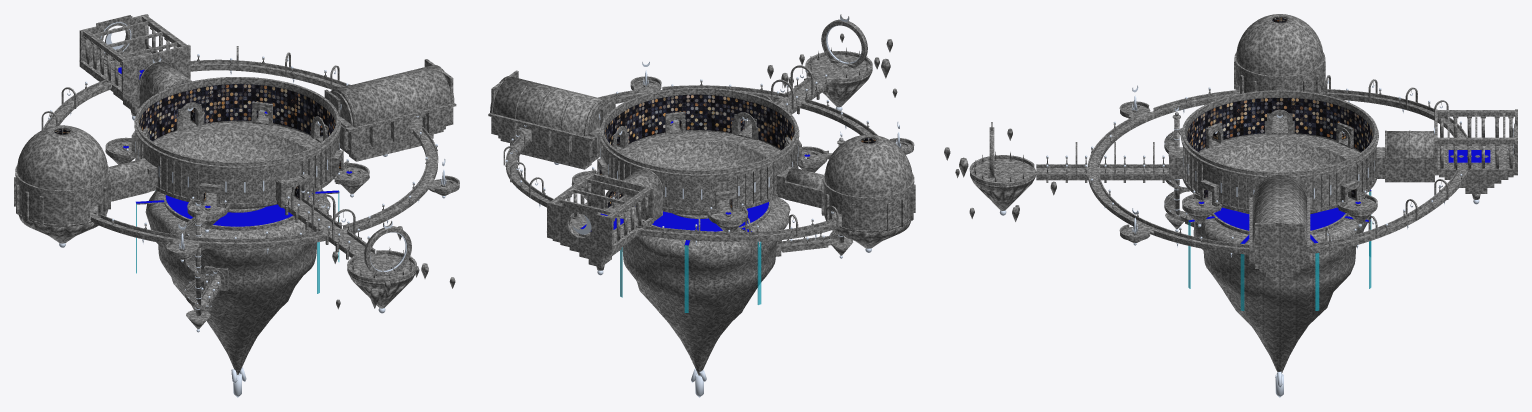
File: MOON TEMPLE Expansion.fbx
3 renders of one model, left to right at view 1: azimuth 30°, elevation 25°; view 2: azimuth 150°, elevation 25°; view 3: azimuth 270°, elevation 25°, orthographic. The views are drawn at different scales.
Parts seen in each view (by area): view 1: Grotto Island, Temple Shell, Wing Observatory, Wing Hall of Phases, Orbit Path, Wing Sanctum, Wing Moon Gate, Temple Walls, Temple Underbelly, Grotto Island Decor, Grotto Stair, Balcony SW (+4 smaller); view 2: Grotto Island, Temple Shell, Wing Observatory, Wing Hall of Phases, Wing Sanctum, Orbit Path, Wing Moon Gate, Temple Walls, Temple Underbelly, Grotto Island Decor, Balcony NW, Grotto Stair (+3 smaller); view 3: Grotto Island, Temple Shell, Orbit Path, Wing Sanctum, Wing Observatory, Wing Moon Gate, Temple Walls, Wing Hall of Phases, Temple Underbelly, Grotto Island Decor, Grotto Stair, Balcony NE (+3 smaller).
Boxes of the visible parts, x1,y1,x2,y2 form: Grotto Island: [136, 189, 339, 374]; Temple Shell: [134, 77, 340, 207]; Wing Observatory: [14, 125, 157, 243]; Wing Hall of Phases: [311, 59, 456, 161]; Orbit Path: [41, 46, 459, 259]; Wing Sanctum: [79, 14, 204, 131]; Wing Moon Gate: [276, 173, 455, 309]; Temple Walls: [139, 84, 335, 140]; Temple Underbelly: [168, 131, 306, 208]; Grotto Island Decor: [136, 190, 339, 397]; Grotto Stair: [185, 210, 221, 329]; Balcony SW: [187, 183, 229, 229]; Grotto Island: [622, 197, 790, 375]; Temple Shell: [599, 87, 799, 213]; Wing Observatory: [776, 134, 915, 248]; Wing Hall of Phases: [488, 70, 628, 169]; Wing Sanctum: [547, 168, 663, 270]; Orbit Path: [503, 76, 914, 241]; Wing Moon Gate: [731, 14, 897, 140]; Temple Walls: [604, 94, 794, 149]; Temple Underbelly: [632, 140, 766, 215]; Grotto Island Decor: [620, 202, 768, 397]; Balcony NW: [707, 190, 748, 231]; Grotto Stair: [782, 140, 853, 255]; Grotto Island: [1190, 190, 1371, 373]; Temple Shell: [1180, 90, 1378, 213]; Orbit Path: [1088, 75, 1468, 254]; Wing Sanctum: [1376, 109, 1517, 199]; Wing Observatory: [1234, 14, 1325, 134]; Wing Moon Gate: [944, 122, 1182, 221]; Temple Walls: [1187, 98, 1372, 151]; Wing Hall of Phases: [1249, 173, 1310, 281]; Temple Underbelly: [1213, 142, 1346, 213]; Grotto Island Decor: [1188, 189, 1371, 397]; Grotto Stair: [1164, 115, 1193, 229]; Balcony NE: [1337, 179, 1377, 224].
Size of the model in its own units: 16759 by 11845 by 20731.
